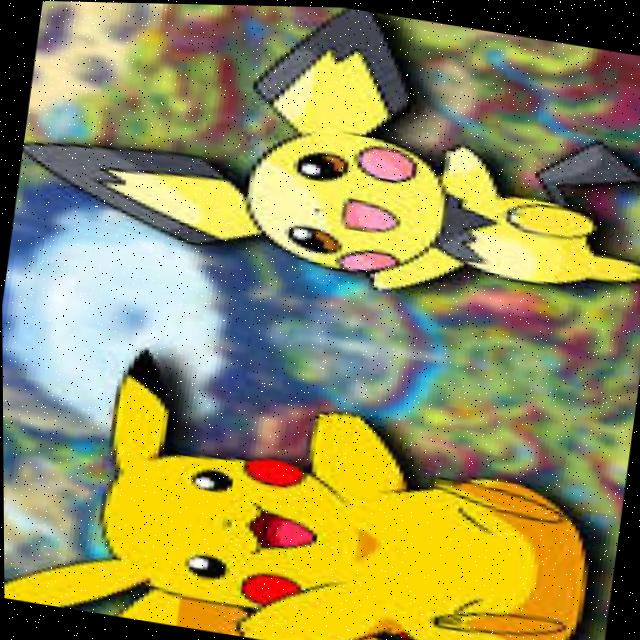pichu: (3, 0, 640, 369)
